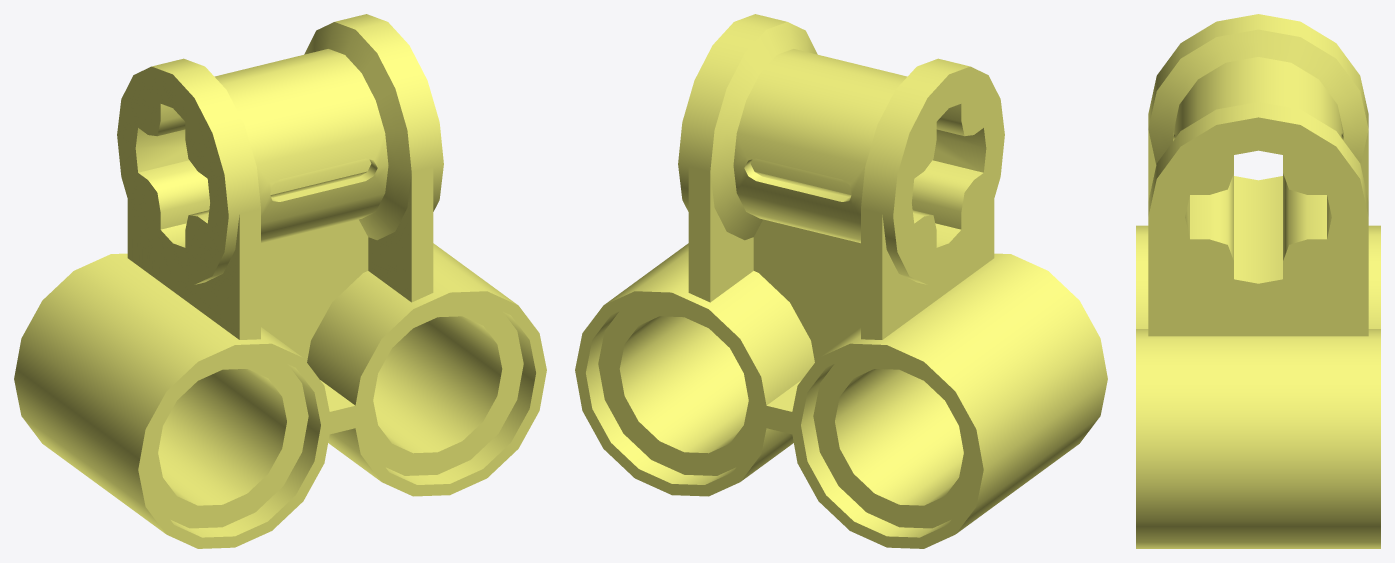
The picture shows the model from 3 angles, left to right: view 1: azimuth 30°, elevation 25°; view 2: azimuth 150°, elevation 25°; view 3: azimuth 270°, elevation 25°; orthographic projection.
Parts seen in each view (by area): view 1: 32291.dat; view 2: 32291.dat; view 3: 32291.dat.
Part boxes in pixels (box(x1,y1,x2,y2)): 32291.dat: box(14, 14, 546, 548); 32291.dat: box(575, 14, 1107, 548); 32291.dat: box(1136, 14, 1380, 548).
Size of the model in its own units: 0.0152 by 0.0152 by 0.008.
